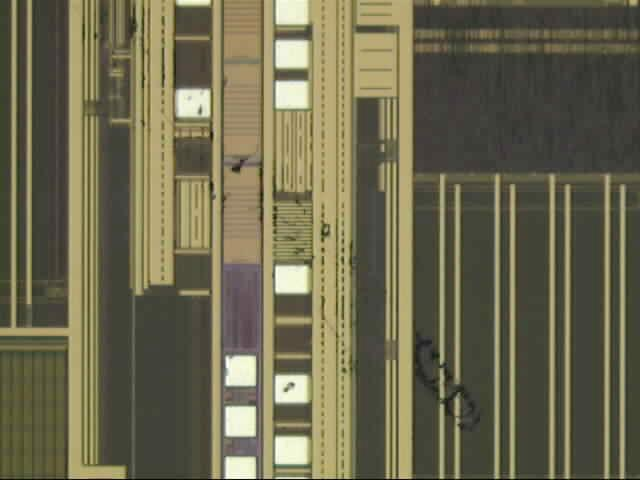SCRATCH: (79, 1, 484, 435)
